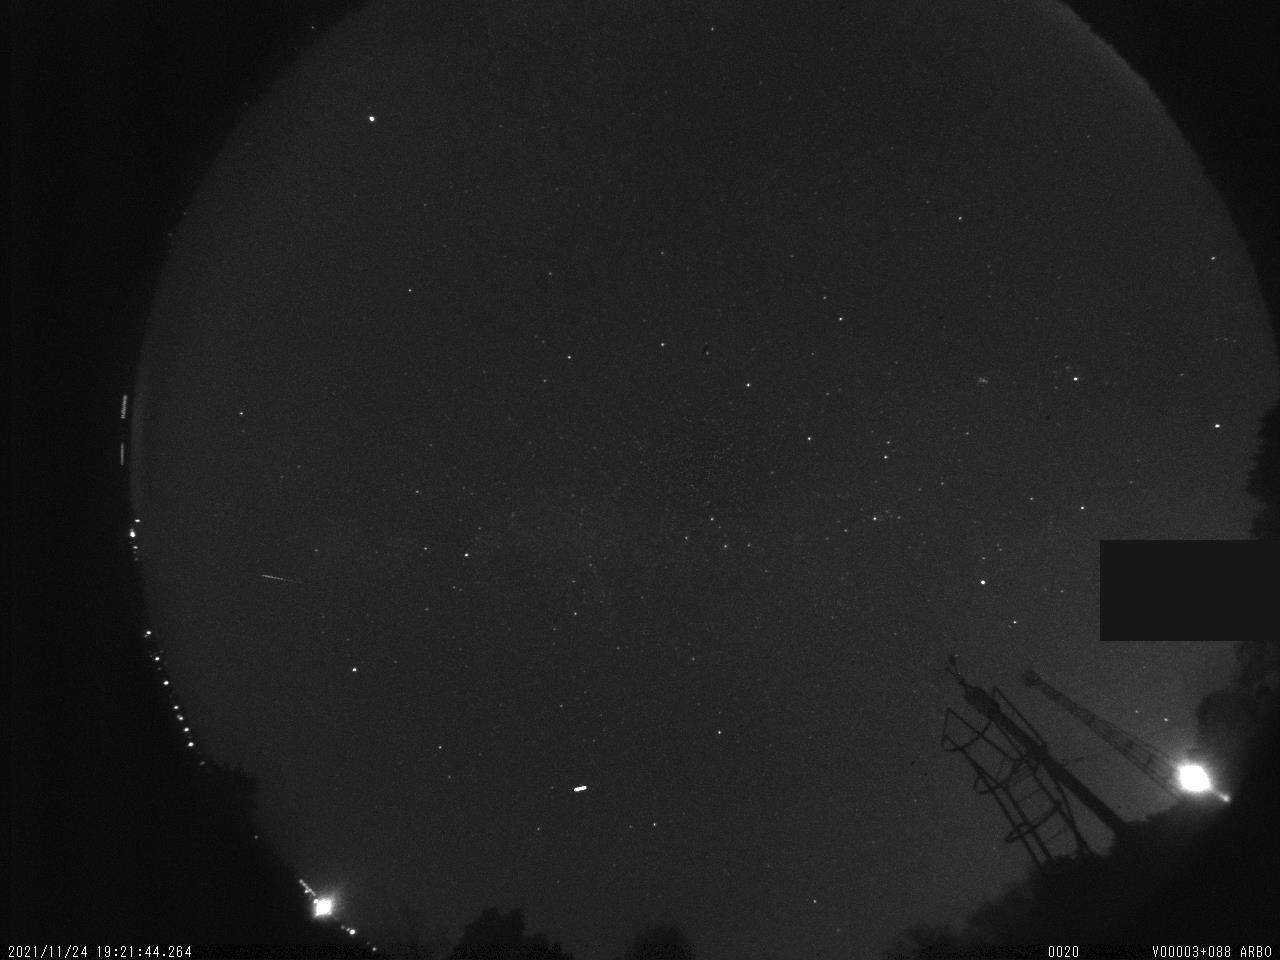Meteor: (252, 566, 298, 588)
